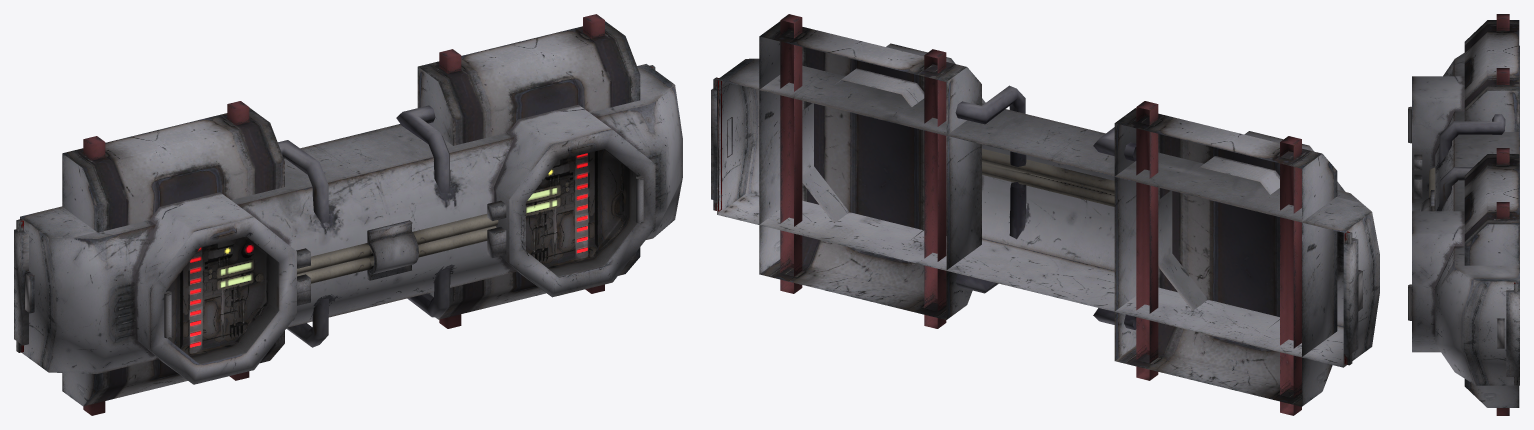
Rendered from pipe_regulator.DAE.
3 views of the same model, side by side, from view 1: azimuth 30°, elevation 25°; view 2: azimuth 150°, elevation 25°; view 3: azimuth 270°, elevation 25° (orthographic). The views are drawn at different scales.
Visible parts, largest first — view 1: pipe_regulator; view 2: pipe_regulator; view 3: pipe_regulator.
Boxes of the visible parts, left/top/right/bottom form: pipe_regulator: left=14, top=14, right=682, bottom=415; pipe_regulator: left=711, top=14, right=1379, bottom=415; pipe_regulator: left=1408, top=14, right=1519, bottom=415.
Bounding box in the file's own units: 3.33 × 1.35 × 0.6543.
